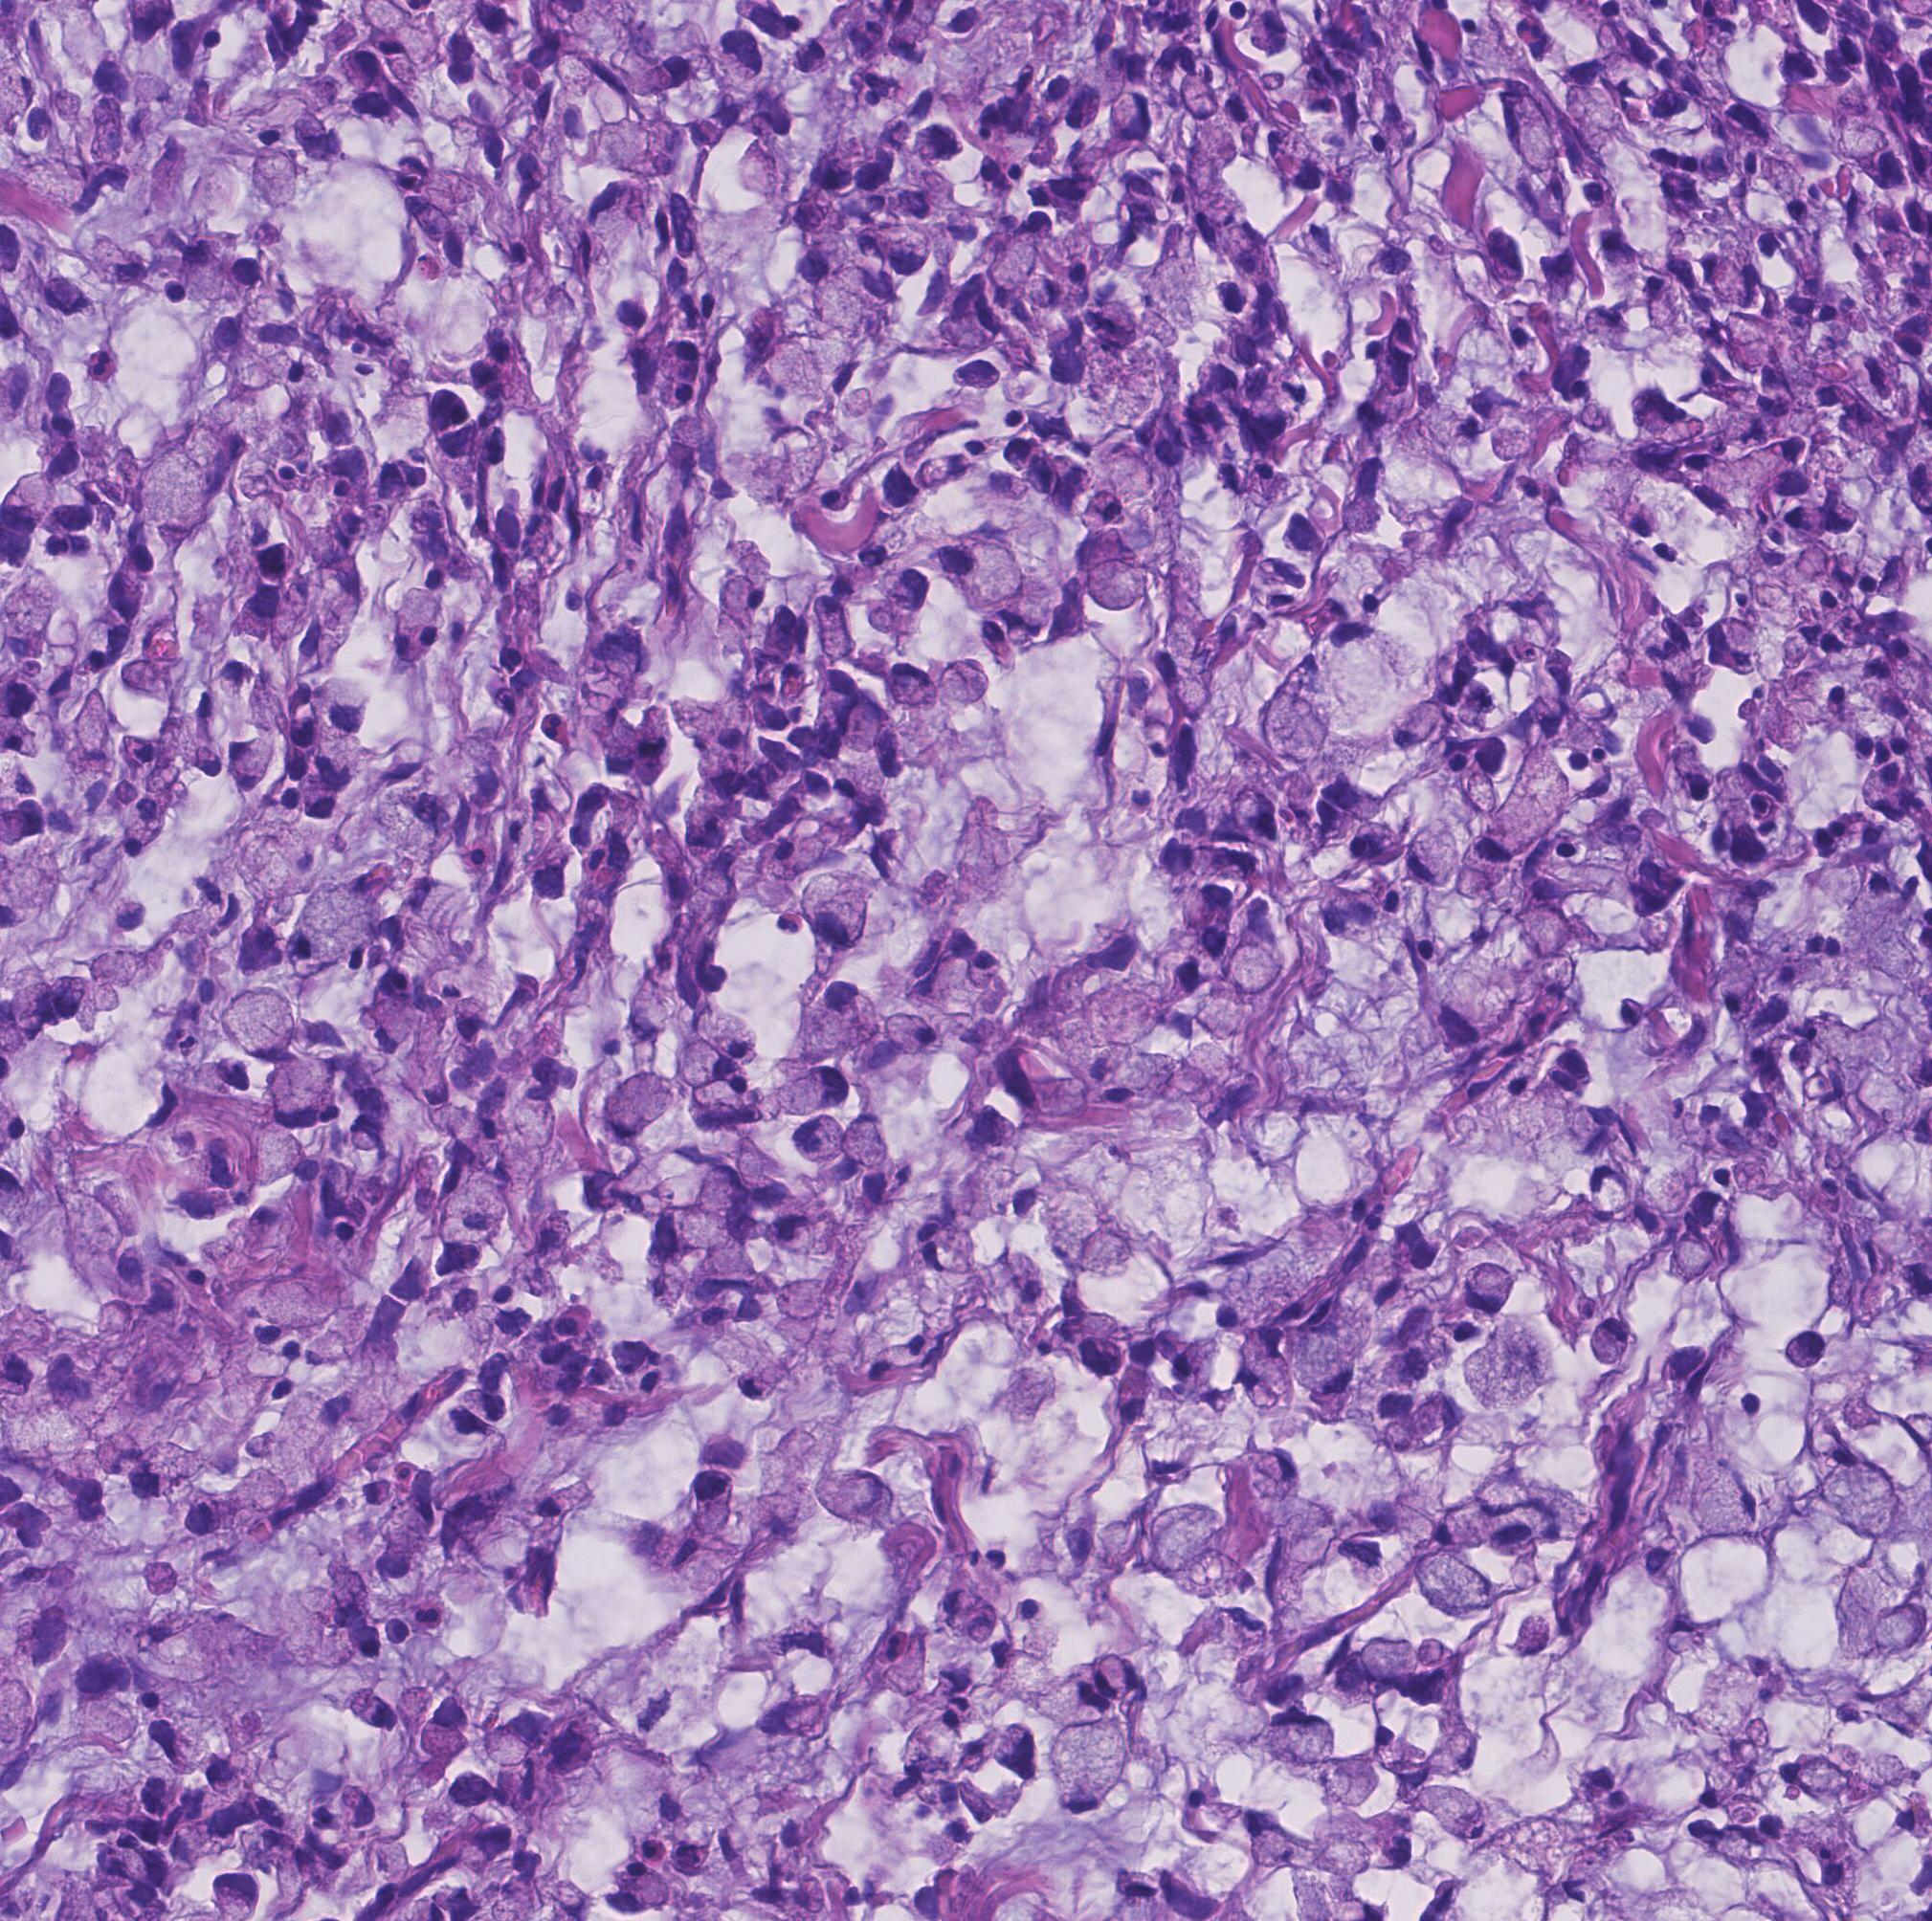ring_cell_cancer: (1476, 734, 1573, 871), (137, 417, 232, 526), (1253, 646, 1328, 767), (285, 878, 380, 966), (1450, 313, 1517, 438), (1364, 1265, 1459, 1342), (1438, 950, 1513, 1047), (755, 325, 855, 396), (1158, 595, 1214, 719), (998, 1043, 1091, 1117), (674, 1165, 751, 1253), (1056, 1717, 1123, 1815), (794, 866, 871, 950), (296, 568, 362, 663), (1700, 1654, 1777, 1733), (218, 990, 299, 1066), (1819, 1457, 1895, 1538), (1687, 1455, 1761, 1538), (454, 1499, 537, 1573), (1782, 1812, 1860, 1889), (876, 693, 954, 771), (1147, 1501, 1225, 1578), (764, 1617, 838, 1698), (264, 1050, 336, 1133), (607, 1064, 677, 1149), (1325, 1536, 1411, 1604), (616, 1145, 704, 1212), (941, 537, 1022, 609), (1372, 1691, 1446, 1768), (670, 700, 744, 778), (947, 1110, 1017, 1191), (238, 1402, 333, 1462), (1093, 980, 1184, 1041), (1633, 1147, 1694, 1238), (1848, 348, 1923, 422), (941, 269, 1008, 352), (711, 1325, 781, 1402), (1497, 84, 1559, 172), (832, 570, 899, 651), (818, 264, 901, 329), (632, 1689, 714, 1754), (720, 1798, 778, 1889), (1480, 1330, 1557, 1399), (1050, 929, 1137, 990), (384, 771, 463, 837), (35, 1486, 116, 1552), (139, 1618, 223, 1680), (1293, 1321, 1360, 1399), (238, 294, 303, 373), (1624, 385, 1705, 449), (1635, 262, 1698, 343), (1040, 1182, 1103, 1261), (1248, 1805, 1323, 1870), (39, 1318, 104, 1393), (1374, 1395, 1464, 1450), (1346, 429, 1390, 540), (121, 1443, 208, 1499), (811, 1469, 897, 1525), (153, 1689, 209, 1775), (765, 1184, 834, 1254), (1031, 1657, 1100, 1727), (1480, 391, 1548, 461), (44, 1356, 109, 1430), (445, 735, 507, 813), (199, 1710, 255, 1794), (649, 1300, 728, 1360), (992, 566, 1056, 640), (1205, 1610, 1267, 1685), (1365, 1333, 1448, 1390), (403, 1024, 456, 1112), (1168, 1550, 1256, 1603), (1710, 1822, 1798, 1875), (313, 1376, 391, 1435), (978, 1154, 1045, 1223), (1197, 1038, 1263, 1107), (753, 1796, 823, 1861), (825, 737, 896, 802), (811, 982, 876, 1050), (1422, 1555, 1494, 1617), (340, 1780, 412, 1842), (1098, 1501, 1158, 1574), (1591, 229, 1645, 310), (292, 1559, 368, 1617), (391, 584, 443, 667), (989, 222, 1045, 299), (39, 1444, 104, 1511), (692, 999, 760, 1063), (157, 1479, 220, 1548), (1262, 1705, 1334, 1764), (765, 816, 838, 876), (593, 626, 644, 711), (556, 81, 605, 167), (1418, 1782, 1487, 1844), (310, 674, 370, 744), (612, 976, 672, 1047), (378, 1501, 431, 1580), (1853, 860, 1902, 945), (873, 1624, 929, 1698), (1145, 946, 1226, 997), (442, 1177, 505, 1242), (897, 1715, 962, 1779), (127, 1344, 188, 1411), (253, 1122, 320, 1184), (850, 522, 943, 566), (1237, 1333, 1290, 1411), (104, 1223, 153, 1305), (470, 1800, 526, 1872), (1364, 1499, 1438, 1553), (1089, 559, 1165, 612), (1712, 866, 1761, 946), (658, 1775, 727, 1833), (1360, 1221, 1406, 1307), (1225, 1446, 1297, 1501), (1181, 876, 1253, 931), (232, 1275, 287, 1348), (1870, 134, 1918, 216), (178, 237, 231, 311), (405, 876, 479, 929), (1077, 515, 1151, 568), (1478, 1457, 1541, 1518), (486, 1710, 553, 1768), (53, 975, 121, 1031), (734, 1128, 781, 1209), (417, 1692, 472, 1763), (1807, 1409, 1856, 1486), (964, 1610, 1014, 1687), (649, 1504, 702, 1576), (1480, 1508, 1564, 1552), (1721, 934, 1763, 1022), (1360, 1812, 1418, 1875), (721, 538, 769, 616), (303, 1311, 368, 1367), (1798, 1013, 1865, 1068), (1059, 1483, 1096, 1581), (424, 1777, 498, 1826), (1372, 1638, 1455, 1682), (310, 373, 362, 442), (232, 99, 308, 146), (1126, 630, 1175, 702), (735, 1272, 801, 1326), (1677, 454, 1754, 500), (378, 909, 445, 962), (1107, 1055, 1175, 1107), (1409, 818, 1460, 887), (794, 234, 853, 292), (1182, 1782, 1242, 1840), (1585, 1735, 1643, 1794), (125, 1650, 181, 1712), (688, 1245, 758, 1295), (1701, 1743, 1758, 1805), (1316, 1752, 1381, 1805), (778, 1068, 850, 1115), (276, 1763, 348, 1810), (1131, 1434, 1198, 1485), (1638, 1504, 1682, 1581), (676, 1038, 744, 1087), (1219, 1265, 1269, 1333), (190, 1545, 248, 1603), (1568, 1099, 1624, 1159), (1457, 837, 1513, 897), (1434, 1495, 1496, 1550), (1835, 640, 1897, 695), (429, 1099, 482, 1163), (1434, 1708, 1482, 1779), (970, 904, 1008, 990), (84, 234, 150, 285), (250, 1194, 299, 1261), (1511, 909, 1578, 959), (875, 222, 934, 276), (297, 1150, 345, 1219), (901, 171, 954, 232), (586, 179, 649, 230), (1675, 1212, 1721, 1282), (607, 1863, 672, 1912), (1383, 697, 1448, 746), (1742, 433, 1807, 482), (809, 595, 857, 661), (1379, 881, 1423, 953), (1079, 1224, 1137, 1279), (206, 289, 245, 369), (271, 566, 311, 644), (512, 1082, 556, 1152), (1701, 252, 1754, 310), (313, 728, 364, 788), (326, 1599, 368, 1671), (494, 1128, 544, 1189), (1379, 352, 1420, 426), (1228, 941, 1283, 996), (1781, 1756, 1851, 1798), (1860, 753, 1911, 811), (1230, 788, 1279, 848), (1195, 917, 1239, 983), (1719, 227, 1767, 289), (765, 1698, 834, 1740), (1353, 816, 1409, 867), (516, 1824, 567, 1881), (1647, 90, 1712, 134), (788, 1115, 846, 1165), (1585, 308, 1643, 357), (373, 994, 421, 1054), (436, 1404, 500, 1448), (595, 712, 639, 776), (1184, 1261, 1253, 1302), (1223, 225, 1272, 281), (146, 1585, 194, 1643), (1754, 537, 1791, 610), (76, 695, 114, 765), (259, 1319, 303, 1381), (1265, 1557, 1309, 1618), (998, 1717, 1038, 1784), (1022, 1597, 1063, 1664), (934, 927, 975, 994), (889, 660, 940, 712), (1174, 1339, 1226, 1390), (1003, 1253, 1050, 1309), (1052, 1309, 1121, 1348), (1772, 955, 1841, 994), (841, 1112, 890, 1165), (1467, 1265, 1517, 1318), (943, 654, 991, 709), (428, 957, 484, 1003), (1716, 619, 1761, 676), (697, 1469, 734, 1538), (370, 1831, 413, 1888), (421, 1281, 487, 1318), (1323, 781, 1387, 820), (14, 985, 62, 1036), (1533, 1070, 1584, 1117), (341, 1689, 398, 1731), (1112, 90, 1154, 144), (882, 1012, 936, 1054), (931, 1814, 973, 1868), (232, 735, 274, 788), (1592, 1314, 1631, 1369), (1077, 487, 1123, 533), (1782, 1325, 1830, 1369), (299, 769, 338, 822), (1121, 1365, 1154, 1423), (1784, 503, 1826, 549)
